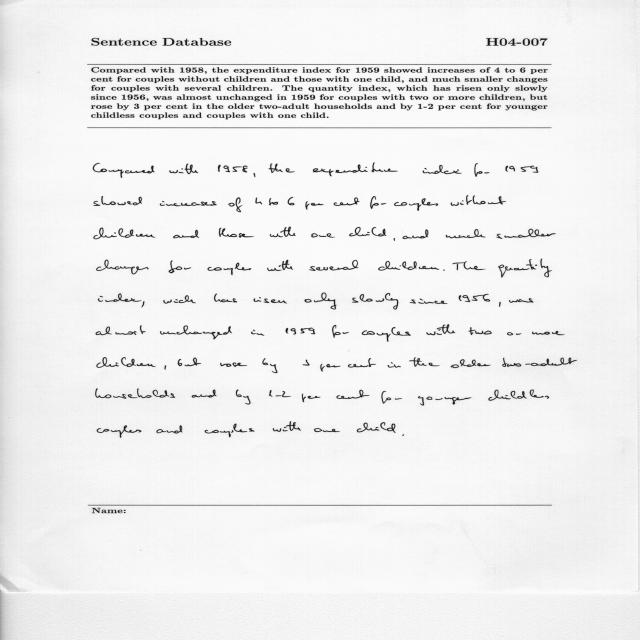word: (313, 163, 398, 176), (160, 326, 232, 340), (498, 259, 552, 277), (93, 163, 155, 178), (96, 389, 175, 399), (352, 293, 398, 310), (97, 260, 149, 275), (362, 327, 411, 342), (488, 389, 549, 401), (99, 293, 145, 308), (502, 358, 577, 367), (94, 228, 155, 239), (205, 424, 255, 437), (97, 357, 156, 368), (378, 261, 439, 271), (451, 195, 506, 206), (496, 229, 556, 239), (97, 425, 142, 438), (394, 198, 438, 211), (309, 260, 358, 271), (418, 396, 471, 406), (208, 263, 251, 275), (305, 293, 337, 309), (96, 325, 146, 335), (94, 196, 142, 206), (269, 390, 306, 402), (357, 422, 395, 433), (446, 229, 486, 238), (451, 359, 491, 368), (423, 165, 462, 174), (219, 228, 254, 238), (349, 227, 386, 236), (409, 357, 440, 367), (273, 421, 301, 432), (453, 262, 486, 271), (337, 390, 370, 399), (170, 164, 199, 174), (426, 325, 455, 335), (169, 261, 191, 274), (267, 260, 293, 271), (160, 201, 217, 206), (348, 358, 376, 368), (381, 391, 402, 404), (270, 227, 296, 237), (459, 294, 491, 302), (269, 164, 295, 173), (334, 197, 360, 206), (403, 230, 429, 239), (218, 165, 247, 173), (506, 166, 539, 173), (263, 358, 278, 373), (236, 390, 251, 405), (410, 298, 447, 304), (332, 325, 349, 338), (475, 163, 490, 177), (228, 198, 242, 213), (370, 196, 386, 209), (173, 230, 199, 238), (157, 426, 183, 434), (214, 294, 237, 303), (254, 297, 288, 303), (286, 328, 315, 335), (192, 390, 217, 398), (469, 327, 492, 335), (178, 358, 201, 366), (174, 295, 196, 303), (320, 364, 341, 372), (306, 201, 324, 210), (221, 362, 248, 367), (532, 331, 565, 335), (509, 298, 534, 303), (311, 233, 335, 238), (314, 428, 340, 432), (251, 330, 264, 336), (388, 362, 401, 368), (269, 198, 278, 205), (288, 197, 295, 205), (255, 198, 262, 205), (507, 332, 521, 335), (303, 360, 310, 366), (308, 396, 321, 399), (163, 300, 172, 304), (499, 302, 501, 307), (165, 365, 167, 370), (254, 173, 256, 177), (402, 434, 404, 436), (394, 238, 395, 241), (443, 270, 445, 271)
